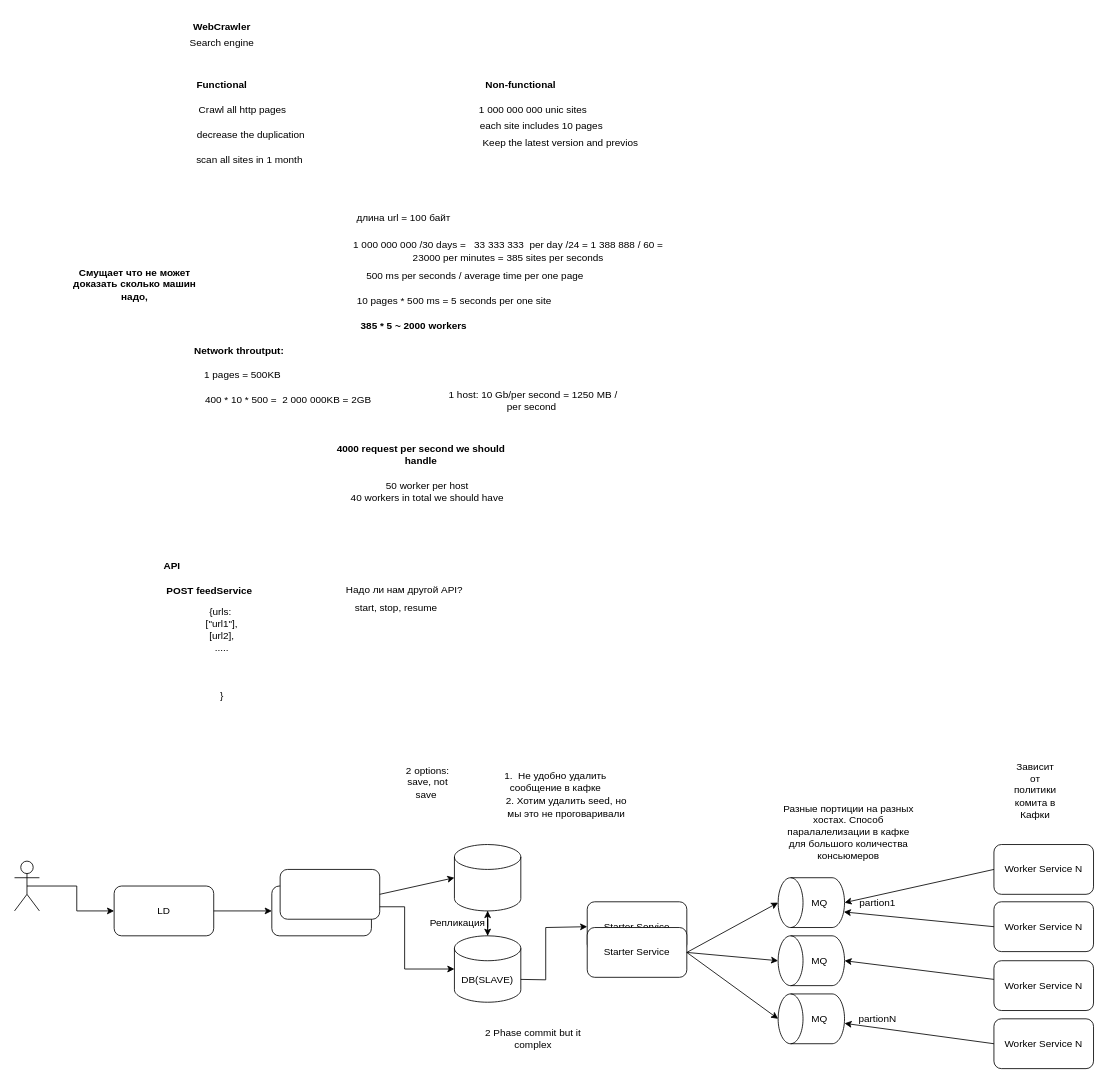
Some shapes in this 1108 by 1083 pixel diagram are drawn without their labels. Here are the shapes that lost their labels. From the top down, the centre of each, then its label:
At pixel 26 885: "Actor".
At pixel 329 894: "Feed Service".
At pixel 487 877: "DB".
